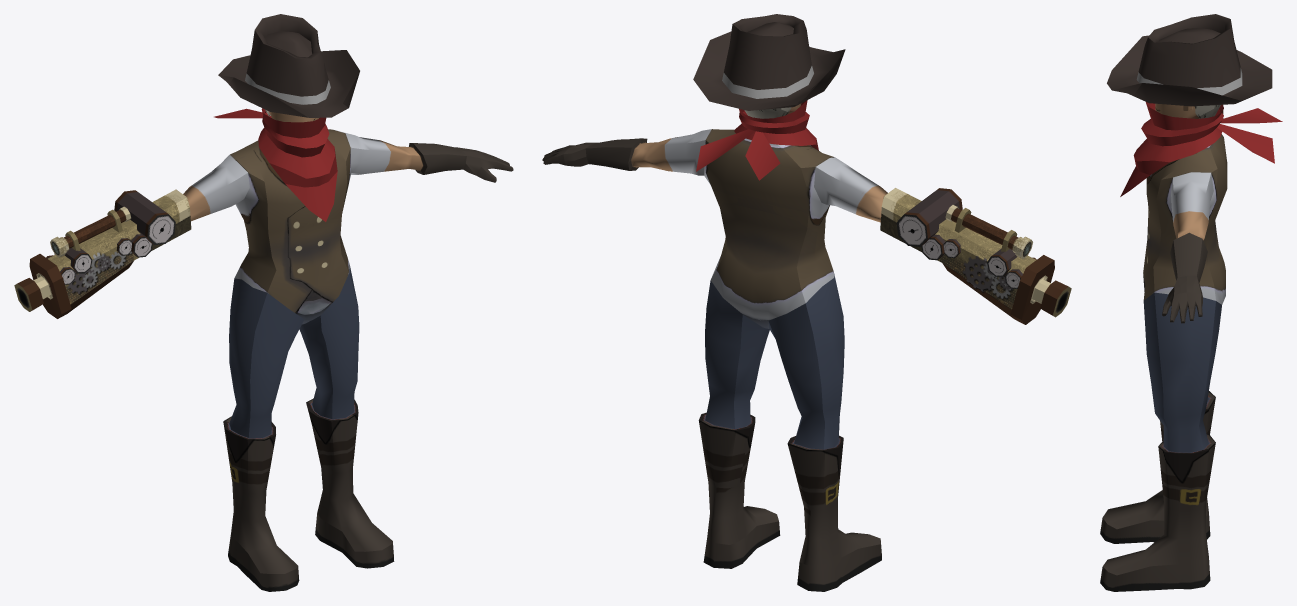
File: Gunslinger.fbx
3 views of the same model, side by side, from view 1: azimuth 30°, elevation 25°; view 2: azimuth 150°, elevation 25°; view 3: azimuth 270°, elevation 25° (orthographic). The views are drawn at different scales.
Visible parts, largest first — view 1: polySurface14; view 2: polySurface14; view 3: polySurface14.
Boxes of the visible parts, x1,y1,x2,y2 form: polySurface14: [14, 14, 513, 591]; polySurface14: [542, 14, 1071, 591]; polySurface14: [1100, 14, 1282, 591].
Bounding box in the file's own units: 134 × 136 × 42.07.
